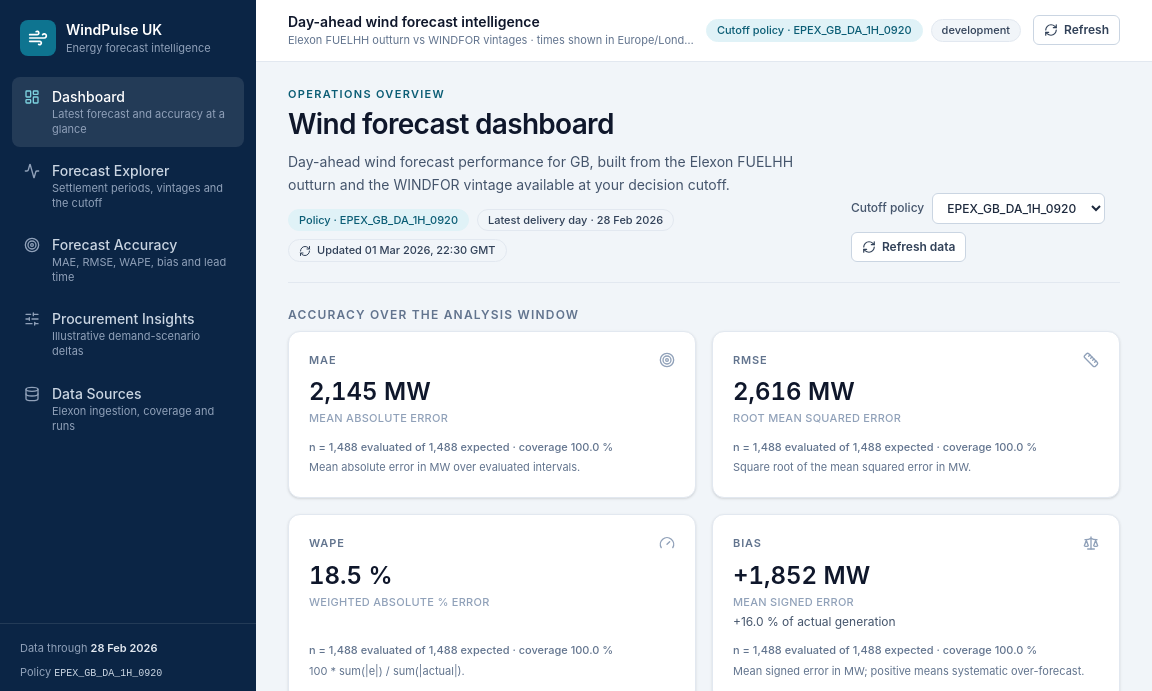
Test: AppRoutes › navigates to accuracy and procurement
The width and height of the screenshot is (1152, 691).
Expected: the heading "Wind forecast dashboard" is shown, [288, 107, 614, 141]
Click the link "Forecast Accuracy MAE, RMSE, WAPE, bias and lead time" at (128, 260), box [12, 225, 244, 295]
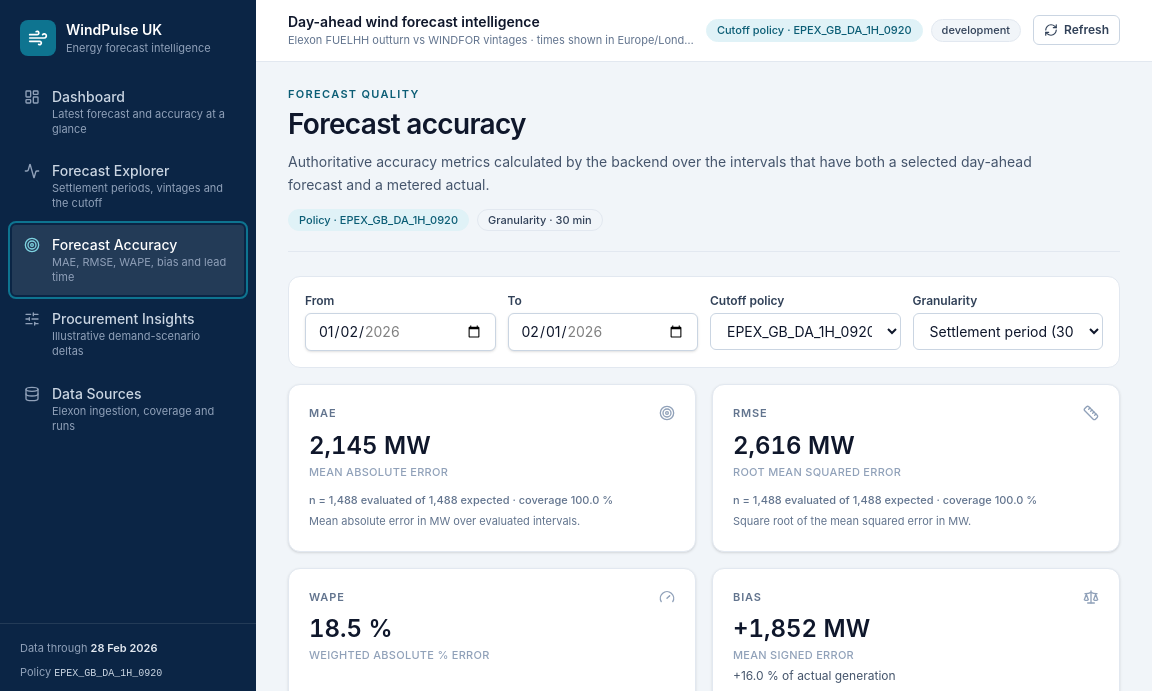
Result: the heading "Forecast accuracy" is shown at [288, 107, 526, 141]
Click the link "Procurement Insights Illustrative demand-scenario deltas" at (112, 334), box [24, 310, 200, 358]
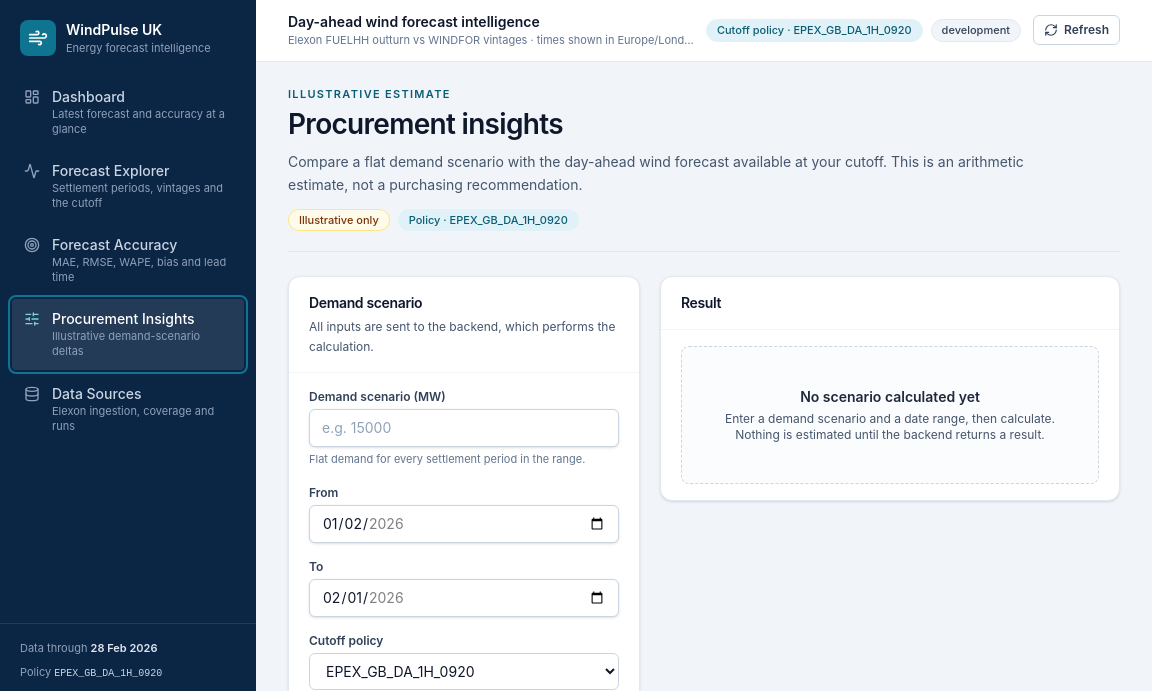
Result: the heading "Procurement insights" is shown at [288, 107, 563, 141]
